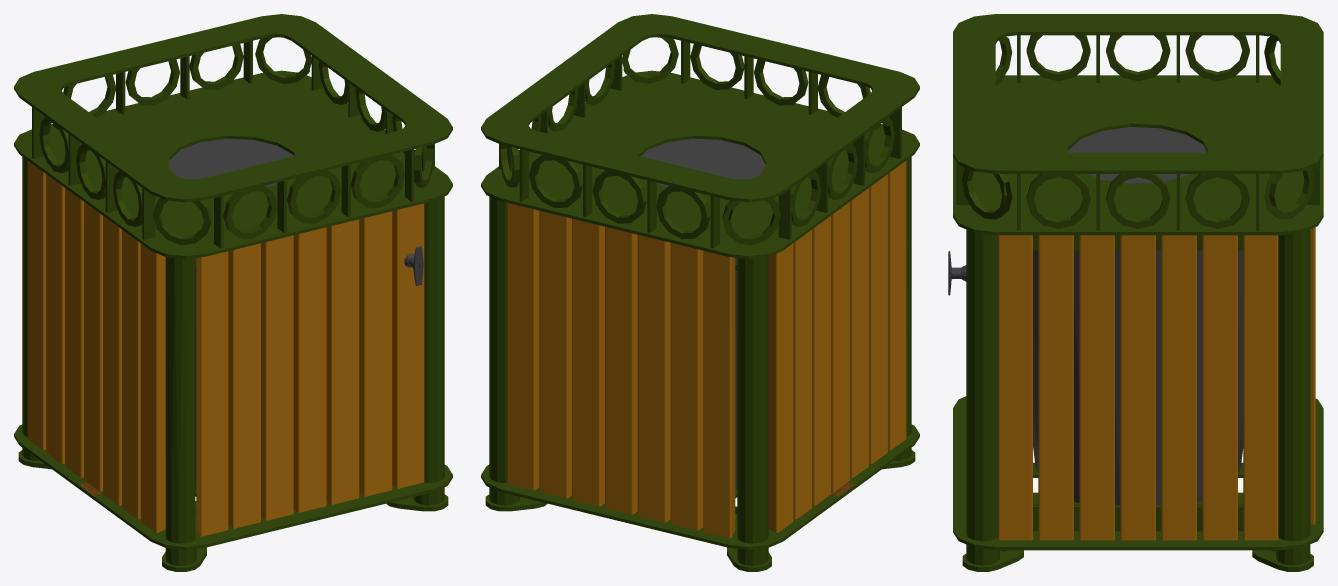
3 views of the same model, side by side, from view 1: azimuth 30°, elevation 25°; view 2: azimuth 150°, elevation 25°; view 3: azimuth 270°, elevation 25° (orthographic). The views are drawn at different scales.
Parts seen in each view (by area): view 1: mesh83.002_mesh83-geometry, mesh82.002_mesh82-geometry, mesh5.005_mesh5-geometry, mesh5.004_mesh5-geometry, mesh5.003_mesh5-geometry, mesh78.002_mesh78-geometry, mesh5.001_mesh5-geometry, mesh5.002_mesh5-geometry, mesh13.001_mesh13-geometry, mesh9.001_mesh9-geometry, mesh7.002_mesh7-geometry, mesh81.002_mesh81-geometry (+24 smaller); view 2: mesh83.002_mesh83-geometry, mesh82.002_mesh82-geometry, mesh79.002_mesh79-geometry, mesh3.013_mesh3-geometry, mesh3.014_mesh3-geometry, mesh3.010_mesh3-geometry, mesh3.011_mesh3-geometry, mesh3.012_mesh3-geometry, mesh1.001_mesh1-geometry, mesh7.001_mesh7-geometry, mesh1.002_mesh1-geometry, mesh80.002_mesh80-geometry (+24 smaller); view 3: mesh83.002_mesh83-geometry, mesh82.002_mesh82-geometry, mesh281.002_mesh281-geometry, mesh7.003_mesh7-geometry, mesh3.009_mesh3-geometry, mesh3.008_mesh3-geometry, mesh3.007_mesh3-geometry, mesh3.006_mesh3-geometry, mesh3.005_mesh3-geometry, mesh1.003_mesh1-geometry, mesh80.002_mesh80-geometry, mesh81.002_mesh81-geometry (+16 smaller).
Part boxes in pixels (x1,y1,x2,y2): mesh83.002_mesh83-geometry: (14, 70, 452, 258); mesh82.002_mesh82-geometry: (14, 14, 452, 202); mesh5.005_mesh5-geometry: (359, 211, 392, 496); mesh5.004_mesh5-geometry: (326, 219, 359, 504); mesh5.003_mesh5-geometry: (293, 227, 326, 512); mesh78.002_mesh78-geometry: (165, 257, 196, 565); mesh5.001_mesh5-geometry: (261, 235, 293, 520); mesh5.002_mesh5-geometry: (228, 243, 260, 528); mesh13.001_mesh13-geometry: (196, 251, 228, 536); mesh9.001_mesh9-geometry: (392, 203, 424, 488); mesh7.002_mesh7-geometry: (140, 243, 165, 532); mesh81.002_mesh81-geometry: (413, 196, 444, 505); mesh83.002_mesh83-geometry: (481, 70, 919, 258); mesh82.002_mesh82-geometry: (481, 14, 919, 202); mesh79.002_mesh79-geometry: (737, 257, 768, 565); mesh3.013_mesh3-geometry: (637, 235, 670, 522); mesh3.014_mesh3-geometry: (670, 243, 703, 530); mesh3.010_mesh3-geometry: (539, 210, 571, 498); mesh3.011_mesh3-geometry: (572, 218, 604, 506); mesh3.012_mesh3-geometry: (605, 226, 637, 514); mesh1.001_mesh1-geometry: (507, 203, 539, 490); mesh7.001_mesh7-geometry: (703, 250, 735, 538); mesh1.002_mesh1-geometry: (768, 243, 793, 532); mesh80.002_mesh80-geometry: (489, 196, 520, 505); mesh83.002_mesh83-geometry: (953, 75, 1323, 235); mesh82.002_mesh82-geometry: (953, 14, 1323, 173); mesh281.002_mesh281-geometry: (1033, 127, 1243, 505); mesh7.003_mesh7-geometry: (1243, 235, 1278, 540); mesh3.009_mesh3-geometry: (1202, 235, 1237, 540); mesh3.008_mesh3-geometry: (1161, 235, 1196, 540); mesh3.007_mesh3-geometry: (1120, 235, 1155, 540); mesh3.006_mesh3-geometry: (1079, 235, 1114, 540); mesh3.005_mesh3-geometry: (1038, 235, 1073, 540); mesh1.003_mesh1-geometry: (998, 235, 1032, 540); mesh80.002_mesh80-geometry: (1276, 229, 1310, 565); mesh81.002_mesh81-geometry: (966, 229, 999, 565).
Size of the model in its own units: 0.536 by 0.6468 by 0.5425.
